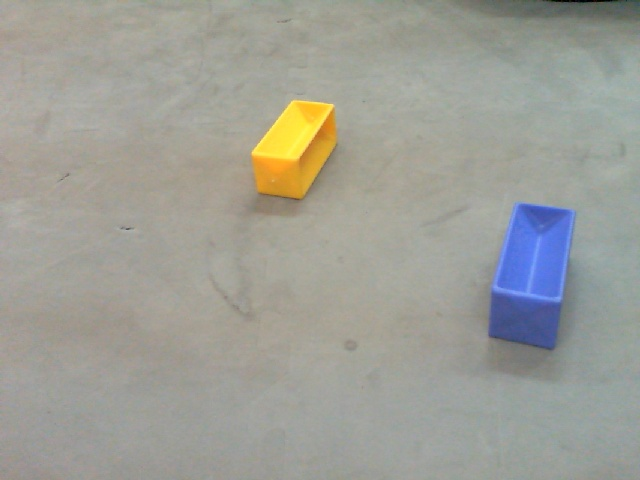BlueSample: (484, 201, 577, 353)
YellowSample: (249, 99, 338, 205)
